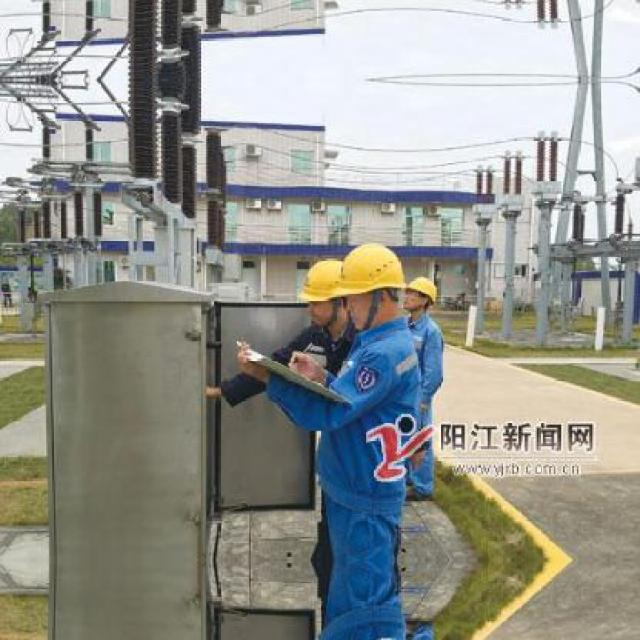helmet: (337, 236, 408, 327), (301, 252, 348, 336), (400, 275, 437, 319)
